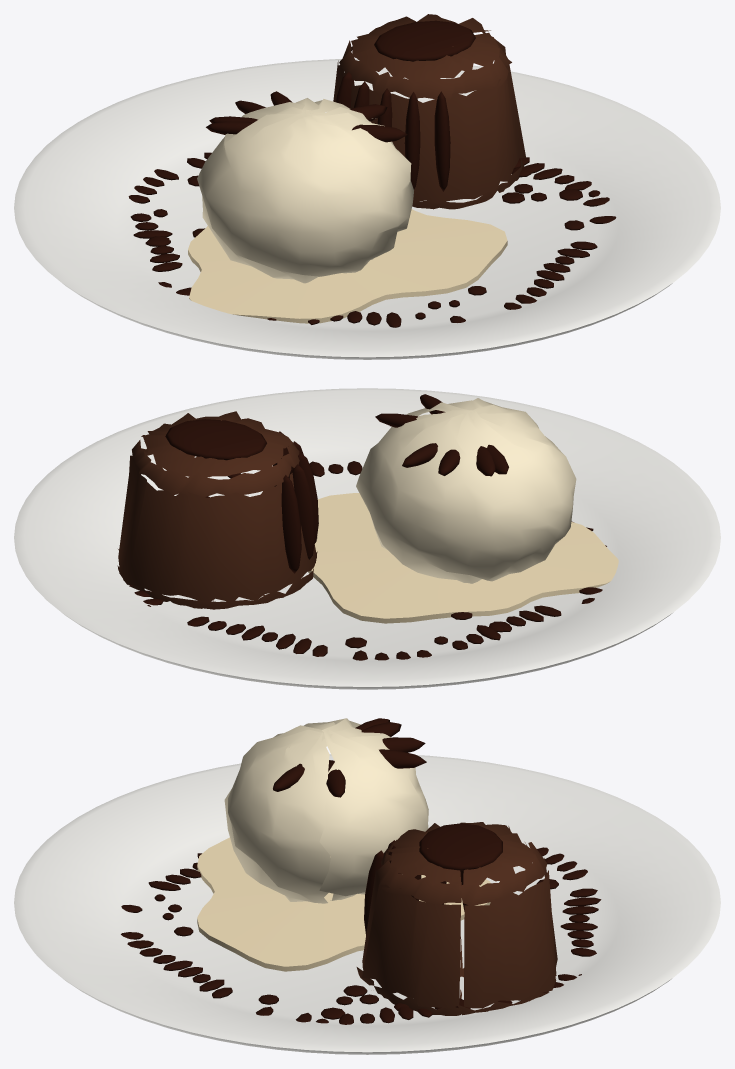
Rendered from petit_gateau.glb.
3 renders of one model, top to bottom at view 1: azimuth 30°, elevation 25°; view 2: azimuth 150°, elevation 25°; view 3: azimuth 270°, elevation 25°, orthographic.
Parts seen in each view (by area): view 1: petit_gateau; view 2: petit_gateau; view 3: petit_gateau.
Boxes of the visible parts, x1,y1,x2,y2 form: petit_gateau: (14,14,720,359); petit_gateau: (14,388,720,689); petit_gateau: (14,718,720,1054).
Size of the model in its own units: 0.264 by 0.0756 by 0.264.
